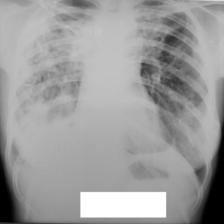tuberculosis: (9, 0, 215, 188)
